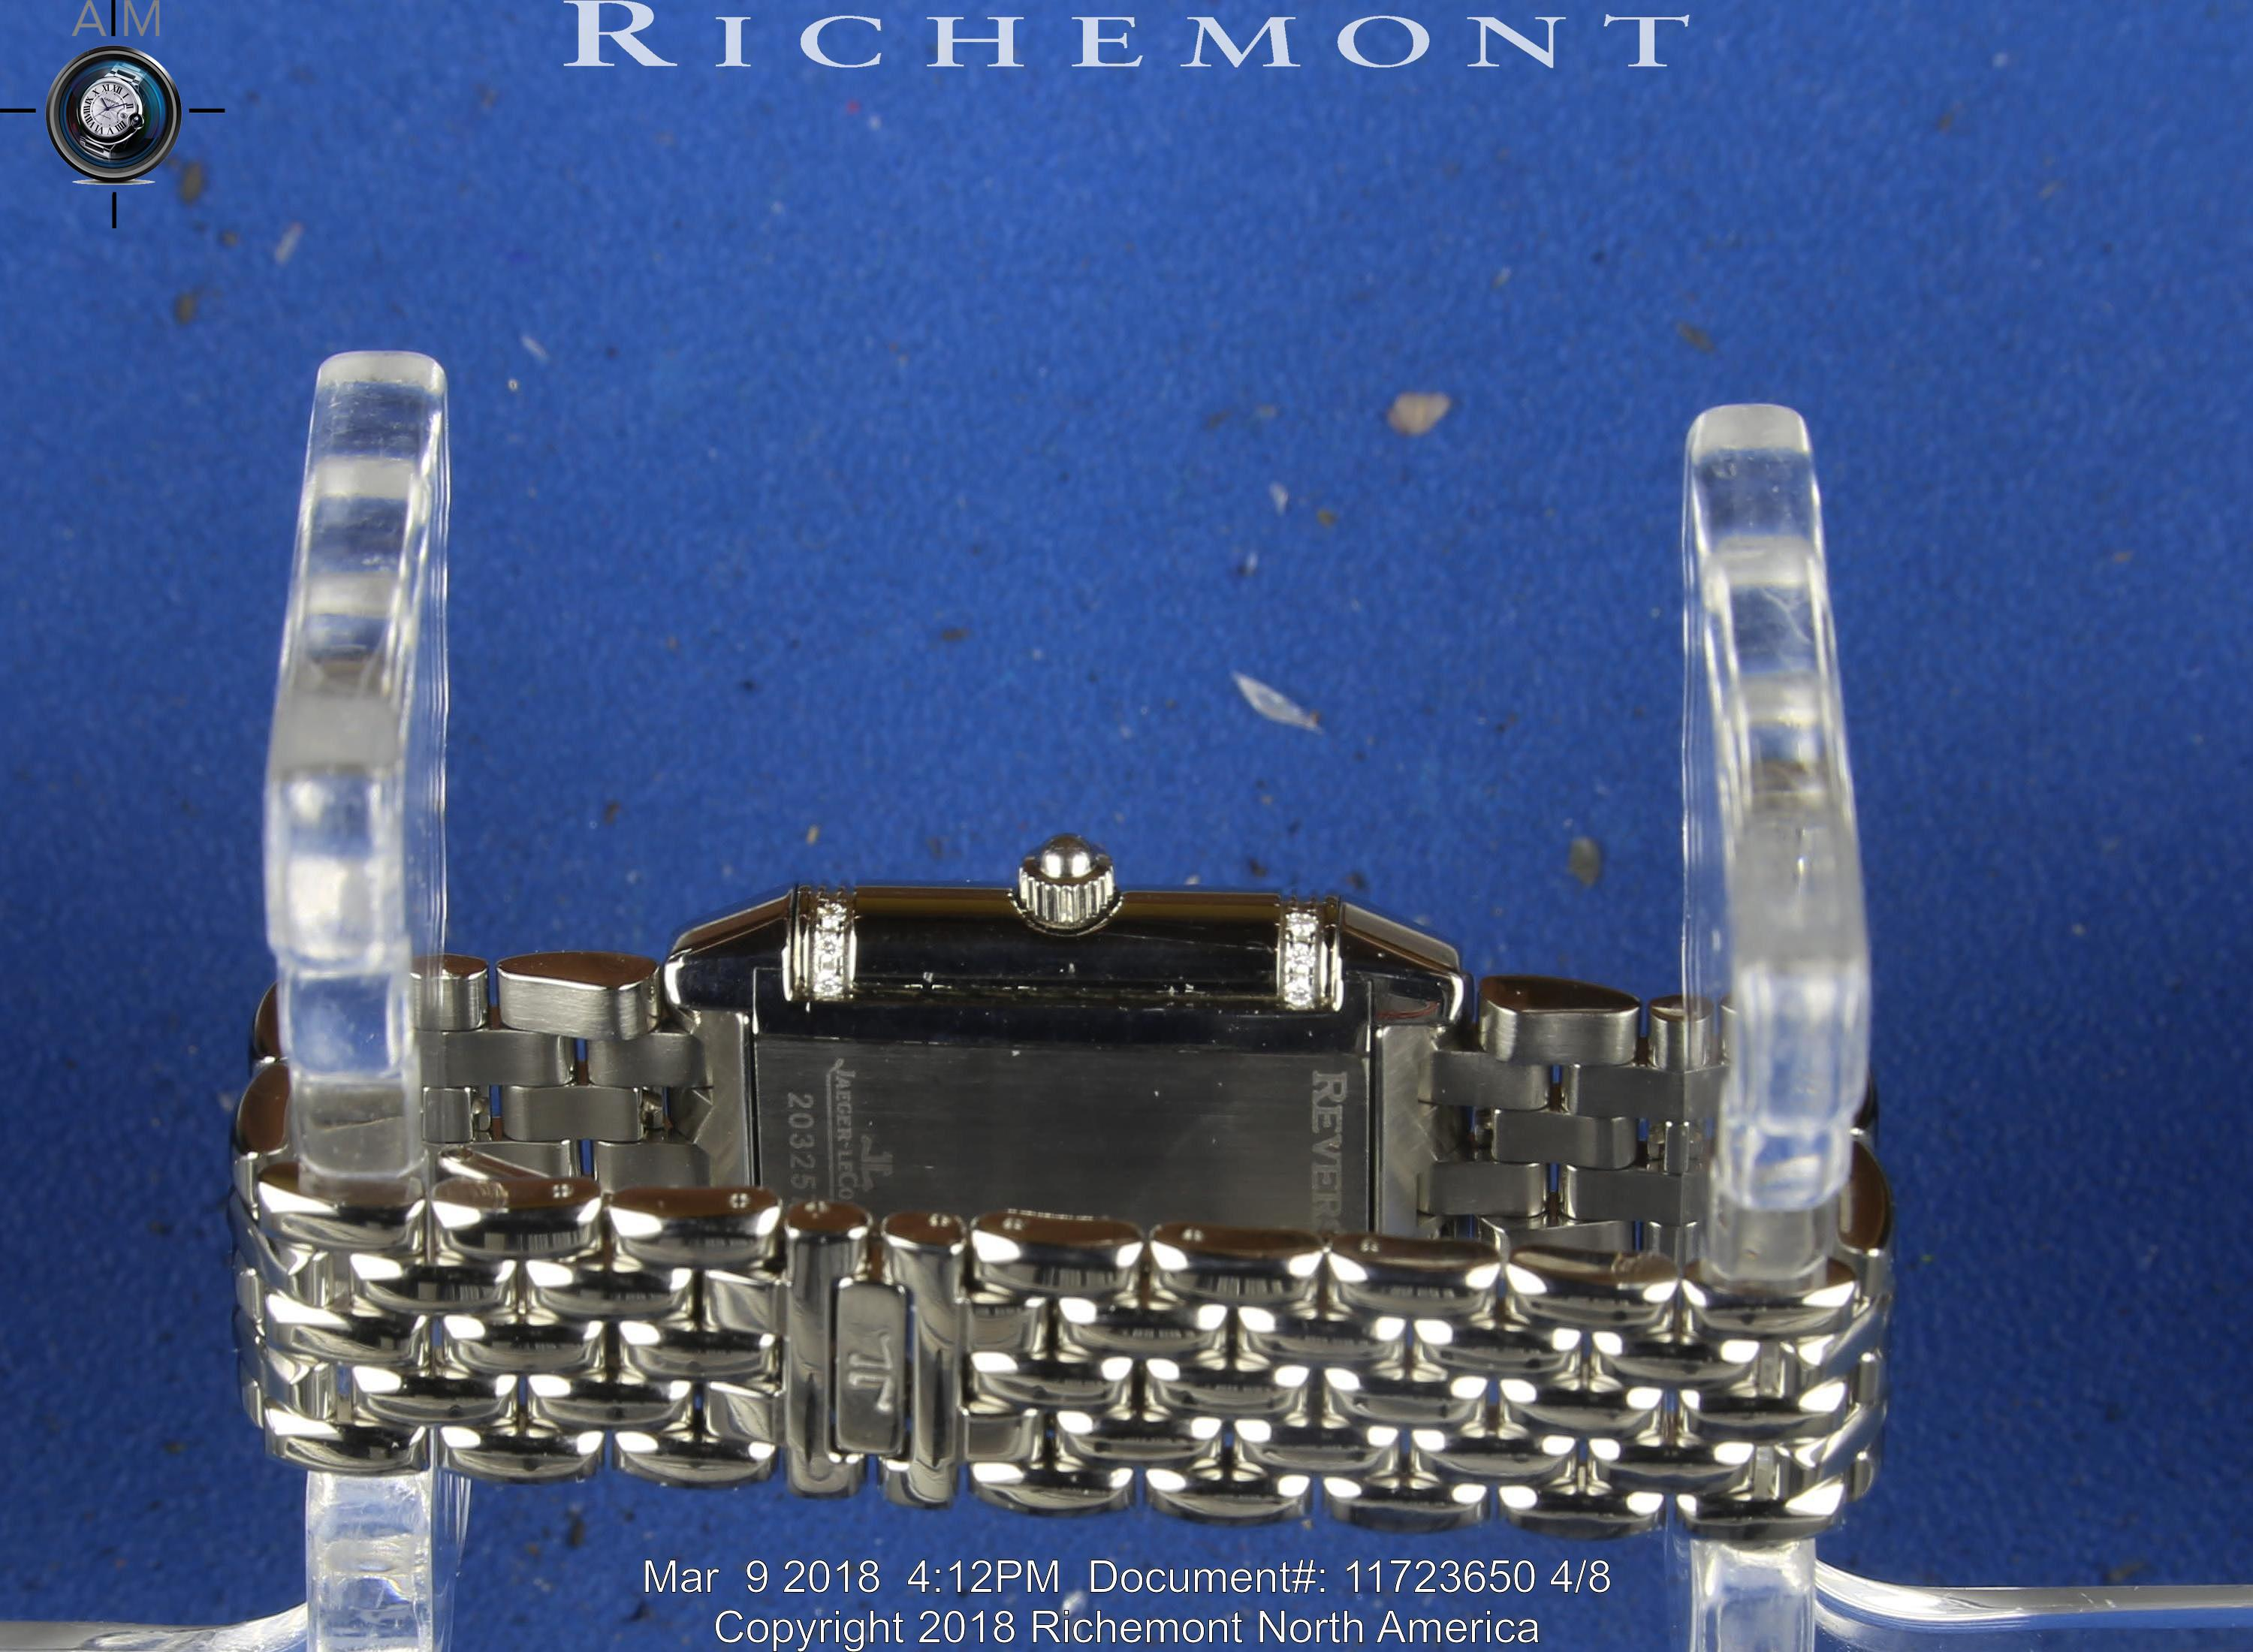Watch Back Case: (661, 837, 1461, 1231)
